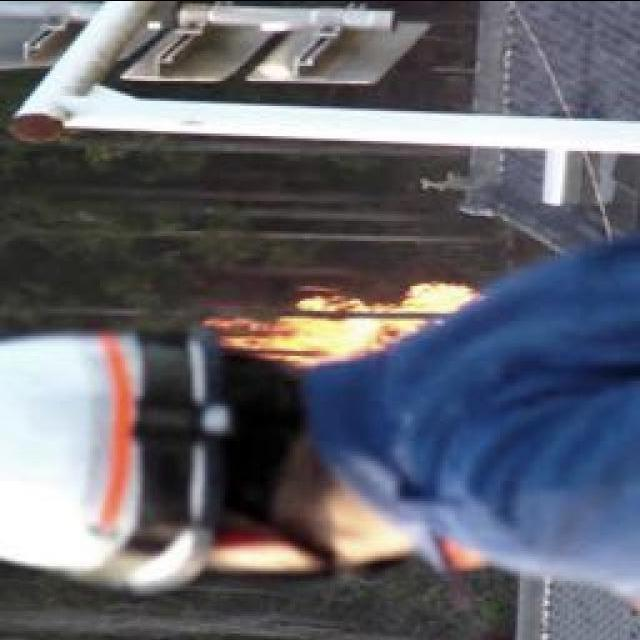Fire: (230, 277, 473, 354)
